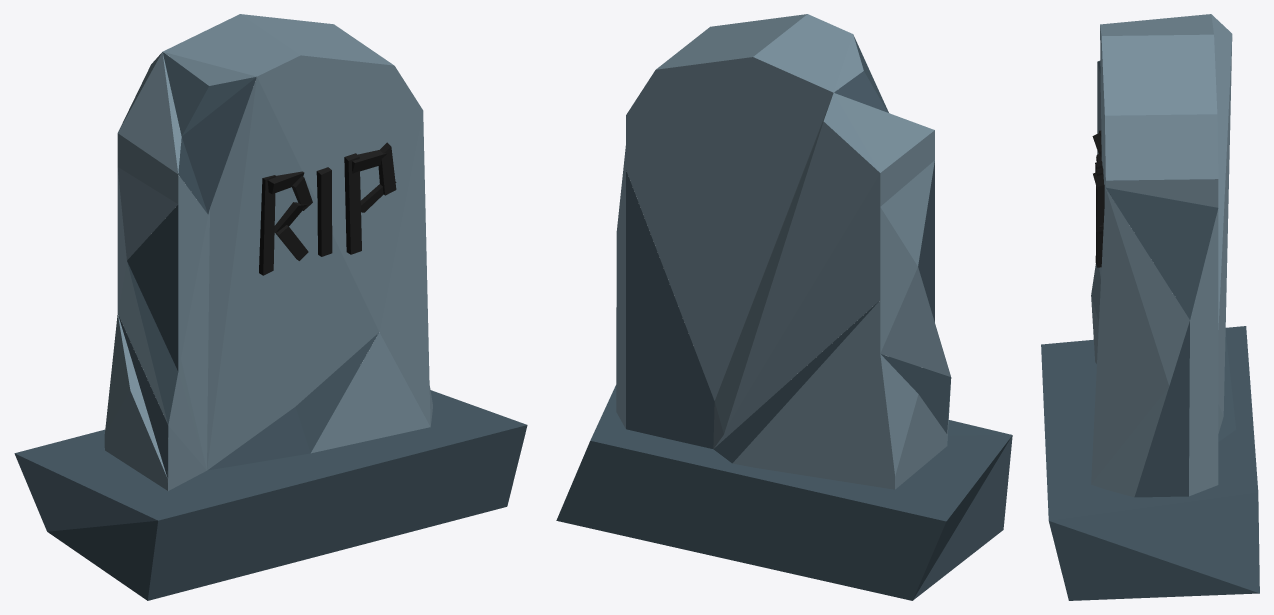
The model's file is gravestone.glb.
The picture shows the model from 3 angles, left to right: view 1: azimuth 30°, elevation 25°; view 2: azimuth 150°, elevation 25°; view 3: azimuth 270°, elevation 25°; orthographic projection. The views are drawn at different scales.
Visible parts, largest first — view 1: group741884468, group1034213151; view 2: group741884468, group1034213151; view 3: group741884468, group1034213151.
Boxes of the visible parts, x1=… form: group741884468: x1=104, y1=14, x2=432, y2=490; group1034213151: x1=14, y1=390, x2=527, y2=600; group741884468: x1=616, y1=14, x2=951, y2=489; group1034213151: x1=556, y1=385, x2=1012, y2=600; group741884468: x1=1091, y1=14, x2=1236, y2=497; group1034213151: x1=1041, y1=326, x2=1259, y2=600.
Bounding box in the file's own units: 1.23 × 1.39 × 0.5803.
